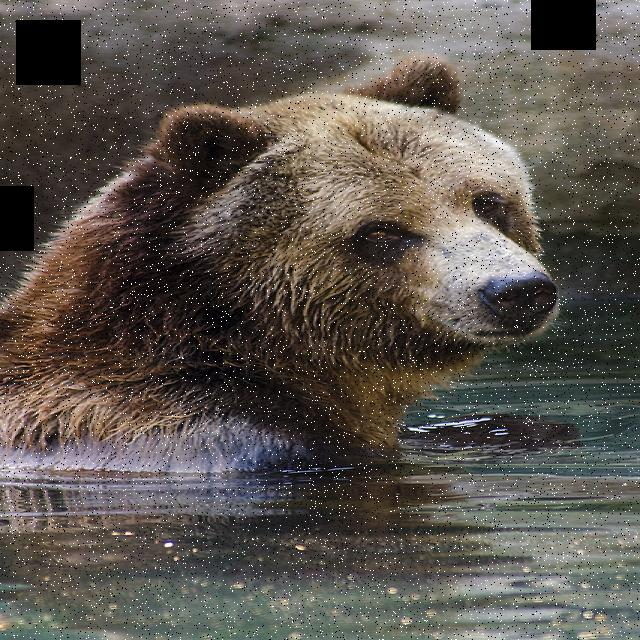Bear: (13, 54, 593, 472)
